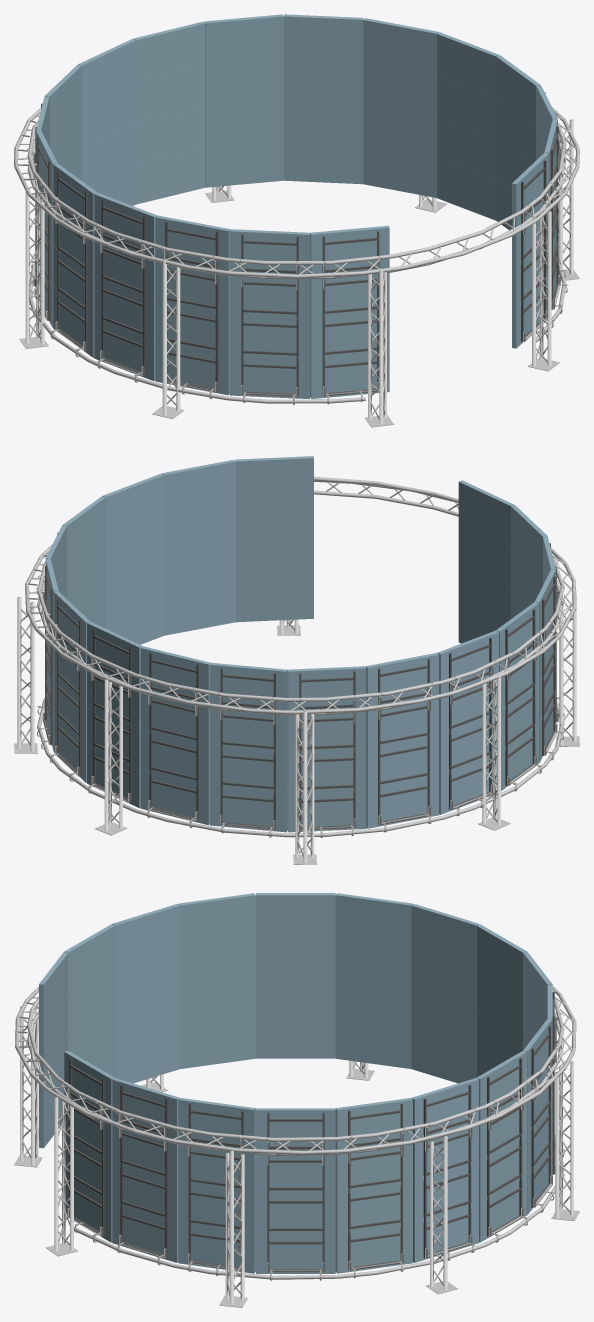
Rendered from CAVE2.fbx.
3 views of the same model, one above another, from view 1: azimuth 30°, elevation 25°; view 2: azimuth 150°, elevation 25°; view 3: azimuth 270°, elevation 25° (orthographic). The views are drawn at different scales.
Parts seen in each view (by area): view 1: Displays, DisplayMount, Truss, TrussCoupling, TrussLegs.008, TrussLegs.003, TrussLegs.001, TrussLegs.002, TrussLowerRing, TrussLegs.007; view 2: Displays, DisplayMount, Truss, TrussCoupling, TrussLegs.004, TrussLowerRing, TrussLegs.003, TrussLegs.005, TrussLegs.006, TrussLegs.002; view 3: Displays, DisplayMount, Truss, TrussCoupling, TrussLegs.007, TrussLegs.008, TrussLegs.005, TrussLowerRing, TrussLegs.006, TrussLegs.001.
Part boxes in pixels (bbox=[...]): Displays: bbox=[36, 14, 557, 398]; DisplayMount: bbox=[35, 92, 558, 396]; Truss: bbox=[14, 107, 579, 278]; TrussCoupling: bbox=[26, 124, 567, 404]; TrussLegs.008: bbox=[527, 211, 559, 371]; TrussLegs.003: bbox=[19, 189, 48, 348]; TrussLegs.001: bbox=[365, 269, 393, 427]; TrussLegs.002: bbox=[152, 260, 184, 418]; TrussLowerRing: bbox=[29, 263, 566, 403]; TrussLegs.007: bbox=[558, 119, 579, 281]; Displays: bbox=[45, 456, 555, 832]; DisplayMount: bbox=[45, 532, 556, 829]; Truss: bbox=[25, 476, 576, 715]; TrussCoupling: bbox=[36, 563, 564, 837]; TrussLegs.004: bbox=[293, 711, 316, 864]; TrussLowerRing: bbox=[37, 698, 564, 837]; TrussLegs.003: bbox=[478, 674, 510, 830]; TrussLegs.005: bbox=[94, 679, 127, 835]; TrussLegs.006: bbox=[14, 597, 37, 753]; TrussLegs.002: bbox=[556, 590, 579, 746]; Displays: bbox=[39, 893, 552, 1273]; DisplayMount: bbox=[69, 992, 554, 1271]; Truss: bbox=[15, 985, 576, 1155]; TrussCoupling: bbox=[32, 1001, 564, 1280]; TrussLegs.007: bbox=[219, 1150, 247, 1307]; TrussLegs.008: bbox=[46, 1096, 77, 1256]; TrussLegs.005: bbox=[551, 1061, 579, 1220]; TrussLowerRing: bbox=[74, 1136, 563, 1279]; TrussLegs.006: bbox=[425, 1135, 457, 1294]; TrussLegs.001: bbox=[14, 1006, 42, 1167].
Bounding box in the file's own units: 7.32 × 2.81 × 7.28.
